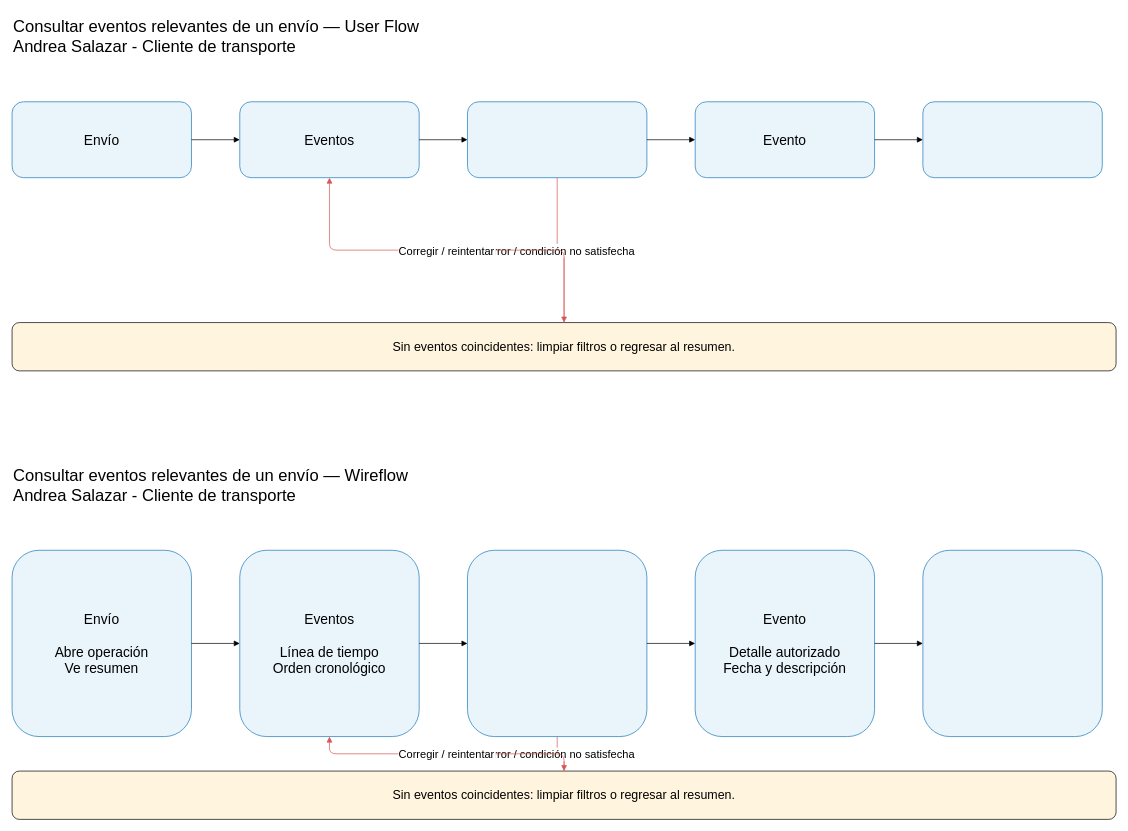
Some shapes in this 1128 by 831 pixel diagram are drawn without their labels. Each missing label, with the centre of its shape:
"Filtrar" belongs at point 557,139.
"Filtrar Tipo y fecha Aplica criterio" belongs at point 557,643.
"Regresar" belongs at point 1012,139.
"Regresar Conserva filtros Vuelve al envío" belongs at point 1012,643.
